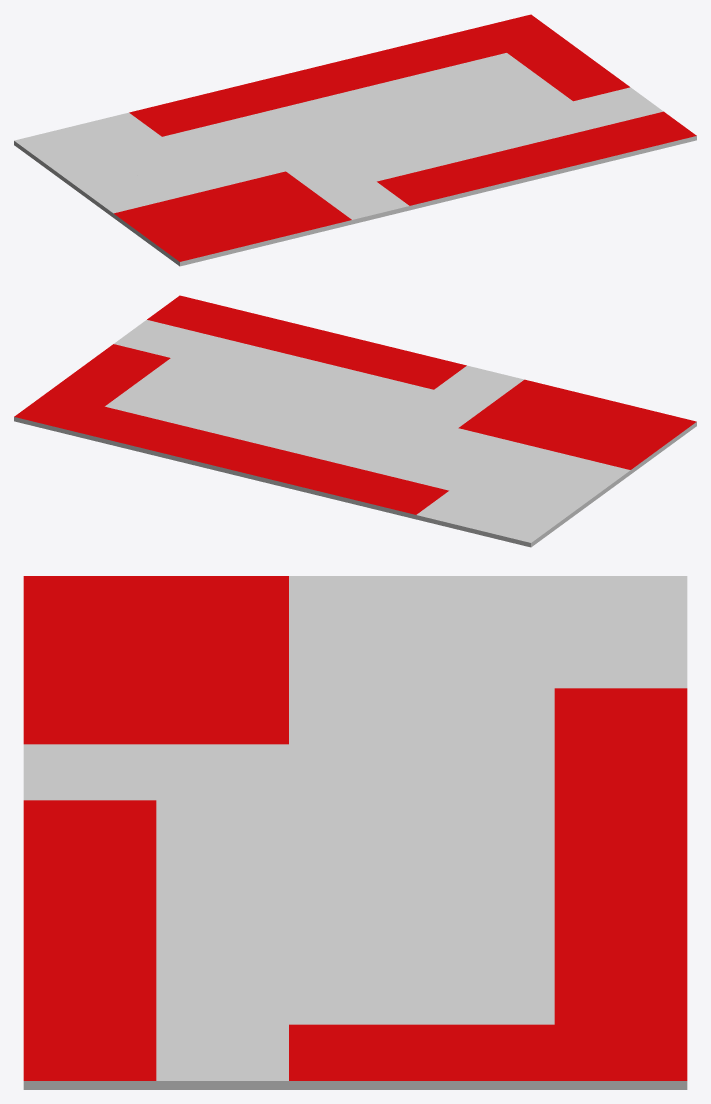
The model's file is Office_Floor.fbx.
3 views of the same model, one above another, from view 1: azimuth 30°, elevation 25°; view 2: azimuth 150°, elevation 25°; view 3: azimuth 270°, elevation 25° (orthographic). The views are drawn at different scales.
Parts seen in each view (by area): view 1: Floor; view 2: Floor; view 3: Floor.
Part boxes in pixels (x1,y1,x2,y2): Floor: [14, 14, 696, 266]; Floor: [14, 295, 696, 547]; Floor: [23, 576, 687, 1089].
Bounding box in the file's own units: 1800 × 15 × 1000.
